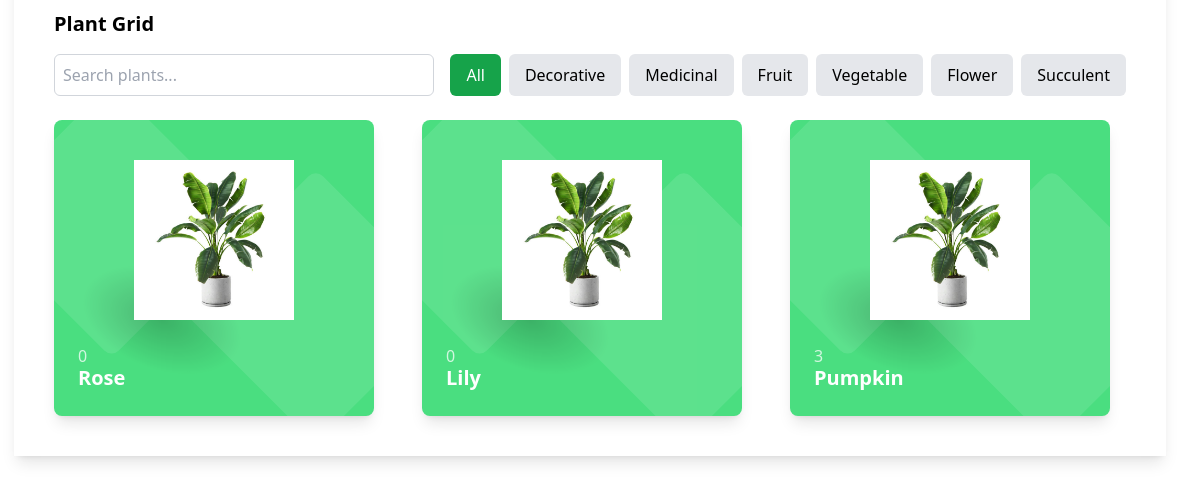
Test: MyGardenDisplayComponent › filters plants by search query
Step 1. Type "Rose" into the field with placeholder "Search plants..." → (244, 75), box [54,54,434,96]
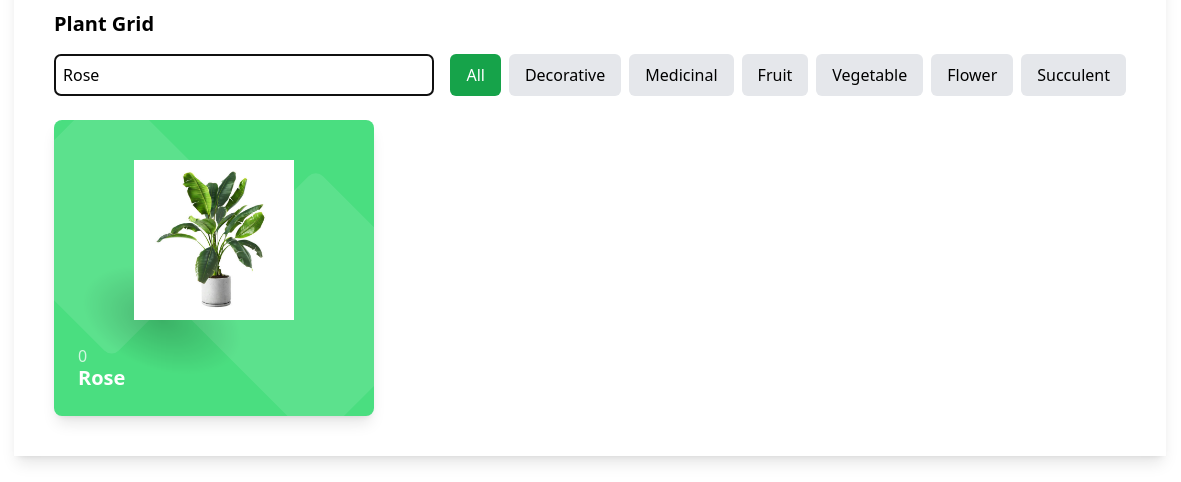
Expected: the text "Rose" is shown, [78,364,125,392]
Now the text "Lily" is gone
